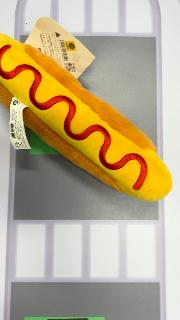hotdog: (1, 33, 173, 203)
